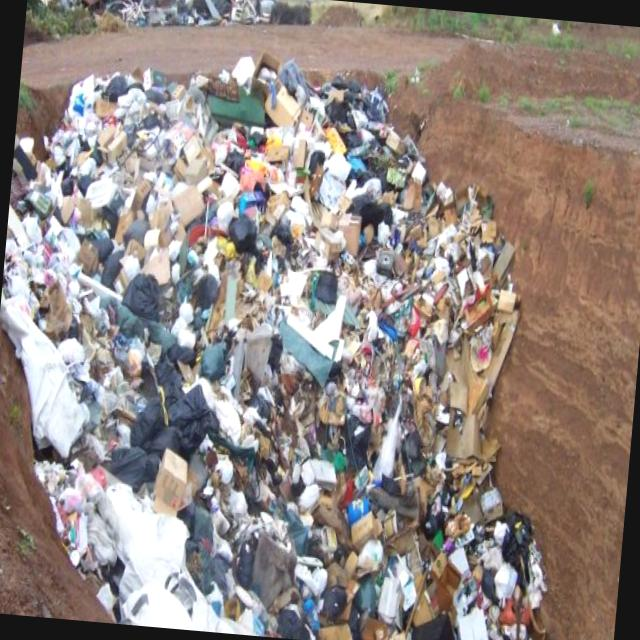garbage: (0, 41, 591, 640)
